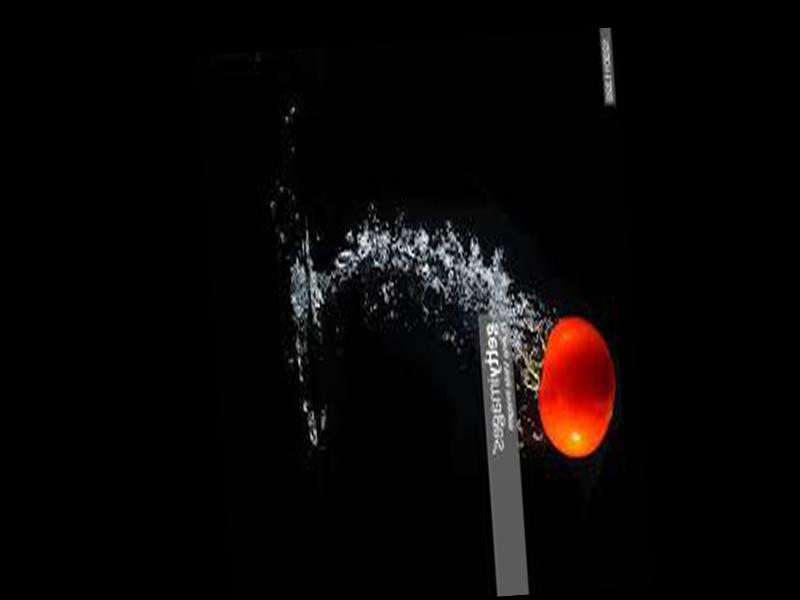Tomato: (532, 312, 617, 459)
